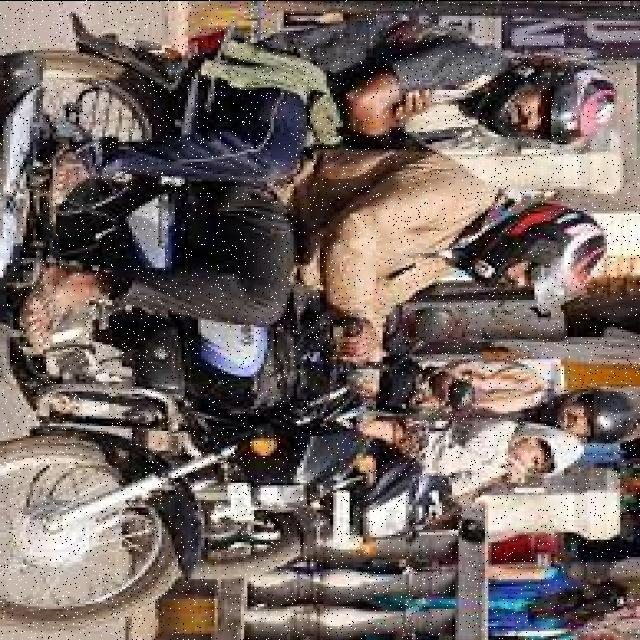Helmet: (454, 201, 607, 309), (461, 61, 617, 144), (536, 389, 635, 441)
